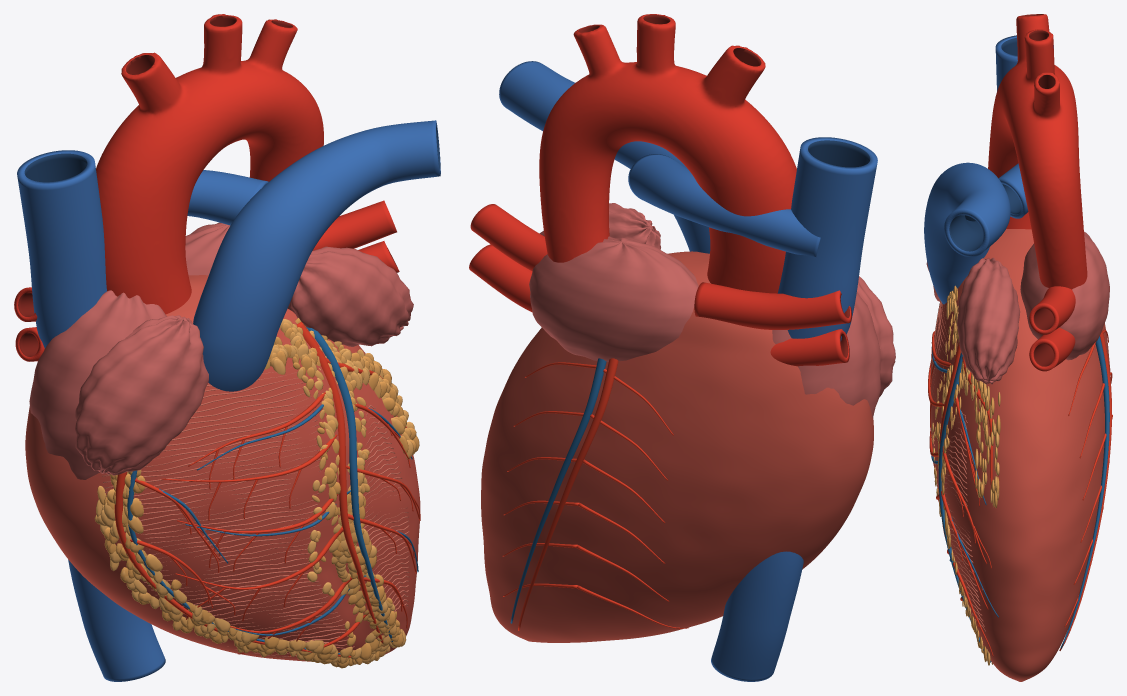
The picture shows the model from 3 angles, left to right: view 1: azimuth 30°, elevation 25°; view 2: azimuth 150°, elevation 25°; view 3: azimuth 270°, elevation 25°; orthographic projection. The views are drawn at different scales.
Parts seen in each view (by area): view 1: Ventricular myocardium | continuous sculpt.001, Aorta | ascending, arch and descending.001, Pulmonary trunk and left pulmonary artery.001, Right auricle | scalloped atrial appendage.001, Superior vena cava.001, Left auricle | scalloped atrial appendage.001, Right atrium | anatomical right / image left.001, Adipose lobules | tone 1.001, Adipose lobules | tone 3.001, Adipose lobules | tone 2.001, Inferior vena cava.001, Right pulmonary artery | posterior branch.001 (+8 smaller); view 2: Ventricular myocardium | continuous sculpt.001, Aorta | ascending, arch and descending.001, Left atrium | posterior.001, Superior vena cava.001, Inferior vena cava.001, Right pulmonary artery | posterior branch.001, Right superior pulmonary vein.001, Pulmonary trunk and left pulmonary artery.001, Right atrium | anatomical right / image left.001, Left superior pulmonary vein.001, Left inferior pulmonary vein.001, Right inferior pulmonary vein.001 (+4 smaller); view 3: Ventricular myocardium | continuous sculpt.001, Aorta | ascending, arch and descending.001, Pulmonary trunk and left pulmonary artery.001, Left auricle | scalloped atrial appendage.001, Left atrium | posterior.001, Adipose lobules | tone 1.001, Adipose lobules | tone 3.001, Left superior pulmonary vein.001, Adipose lobules | tone 2.001, Left inferior pulmonary vein.001, Middle cardiac vein.001, Right pulmonary artery | posterior branch.001 (+7 smaller).
Part boxes in pixels (bbox=[...]): Ventricular myocardium | continuous sculpt.001: bbox=[25, 275, 420, 661]; Aorta | ascending, arch and descending.001: bbox=[96, 14, 323, 314]; Pulmonary trunk and left pulmonary artery.001: bbox=[193, 120, 440, 391]; Right auricle | scalloped atrial appendage.001: bbox=[74, 315, 208, 475]; Superior vena cava.001: bbox=[17, 150, 106, 348]; Left auricle | scalloped atrial appendage.001: bbox=[287, 246, 413, 346]; Right atrium | anatomical right / image left.001: bbox=[29, 290, 166, 479]; Adipose lobules | tone 1.001: bbox=[103, 318, 419, 668]; Adipose lobules | tone 3.001: bbox=[96, 319, 414, 667]; Adipose lobules | tone 2.001: bbox=[94, 322, 415, 664]; Inferior vena cava.001: bbox=[68, 559, 165, 681]; Right pulmonary artery | posterior branch.001: bbox=[187, 170, 268, 225]; Ventricular myocardium | continuous sculpt.001: bbox=[481, 251, 873, 642]; Aorta | ascending, arch and descending.001: bbox=[539, 14, 796, 293]; Left atrium | posterior.001: bbox=[529, 236, 698, 361]; Superior vena cava.001: bbox=[777, 137, 877, 341]; Inferior vena cava.001: bbox=[711, 551, 803, 681]; Right pulmonary artery | posterior branch.001: bbox=[628, 154, 820, 256]; Right superior pulmonary vein.001: bbox=[694, 282, 851, 329]; Pulmonary trunk and left pulmonary artery.001: bbox=[499, 61, 710, 253]; Right atrium | anatomical right / image left.001: bbox=[772, 292, 880, 417]; Left superior pulmonary vein.001: bbox=[470, 204, 547, 271]; Left inferior pulmonary vein.001: bbox=[469, 244, 532, 312]; Right inferior pulmonary vein.001: bbox=[770, 329, 849, 366]; Ventricular myocardium | continuous sculpt.001: bbox=[930, 229, 1110, 681]; Aorta | ascending, arch and descending.001: bbox=[988, 14, 1087, 289]; Pulmonary trunk and left pulmonary artery.001: bbox=[924, 162, 1010, 304]; Left auricle | scalloped atrial appendage.001: bbox=[957, 257, 1020, 384]; Left atrium | posterior.001: bbox=[1020, 231, 1109, 360]; Adipose lobules | tone 1.001: bbox=[936, 285, 1000, 661]; Adipose lobules | tone 3.001: bbox=[932, 290, 999, 665]; Left superior pulmonary vein.001: bbox=[1029, 286, 1075, 334]; Adipose lobules | tone 2.001: bbox=[932, 291, 1000, 664]; Left inferior pulmonary vein.001: bbox=[1029, 327, 1075, 371]; Middle cardiac vein.001: bbox=[1060, 336, 1109, 648]; Right pulmonary artery | posterior branch.001: bbox=[998, 163, 1028, 218].
Size of the model in its own units: 4.02 by 6.43 by 1.88.
